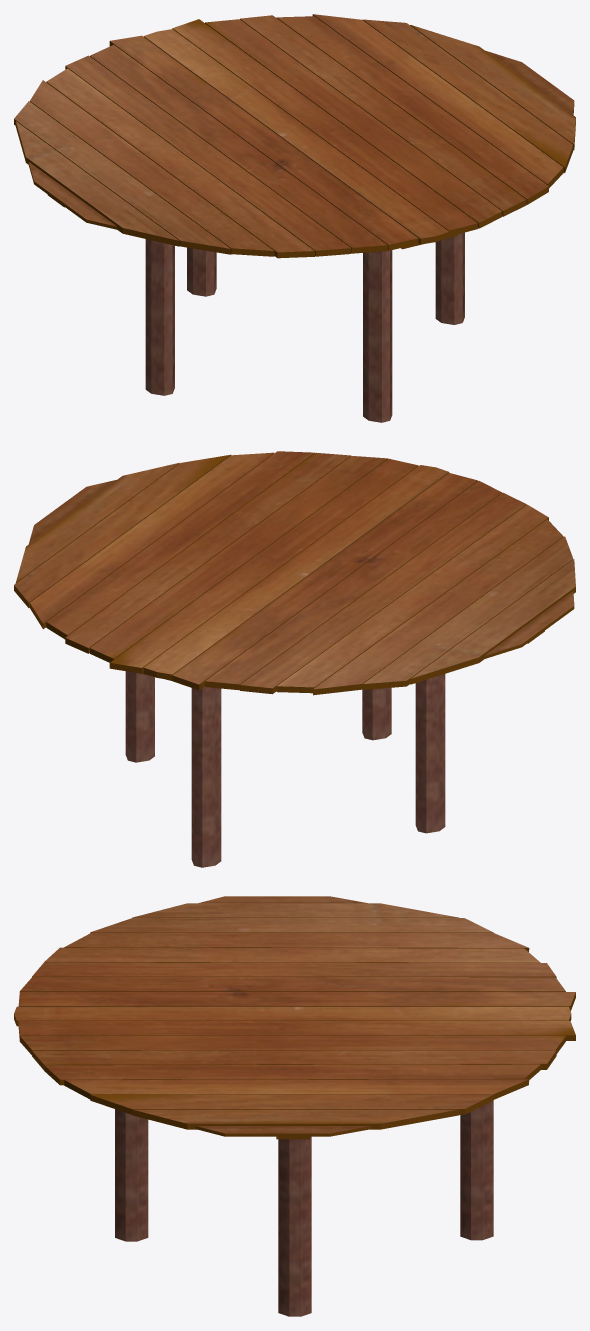
File: TABLE.fbx
3 renders of one model, top to bottom at view 1: azimuth 30°, elevation 25°; view 2: azimuth 150°, elevation 25°; view 3: azimuth 270°, elevation 25°, orthographic.
Parts seen in each view (by area): view 1: TABLE; view 2: TABLE; view 3: TABLE.
Part boxes in pixels (x1,y1,x2,y2): TABLE: [14, 14, 575, 422]; TABLE: [14, 451, 575, 867]; TABLE: [14, 896, 575, 1316].
Size of the model in its own units: 130 by 56.79 by 130.
